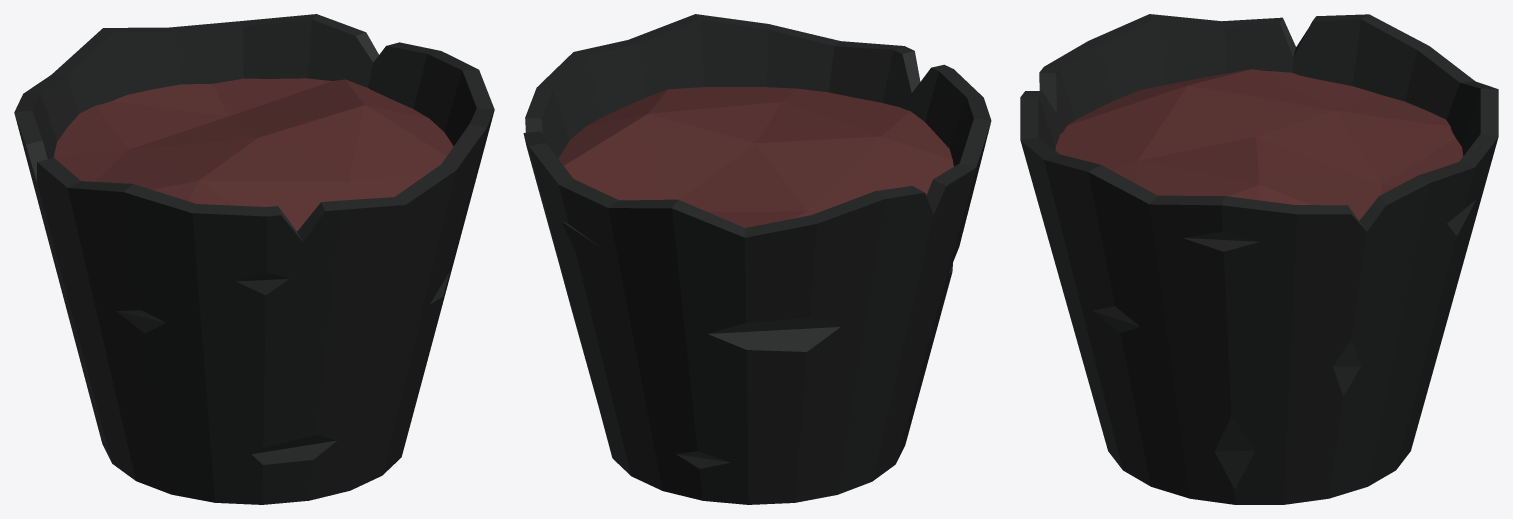
Rendered from Bucket_3_Black.fbx.
3 renders of one model, left to right at view 1: azimuth 30°, elevation 25°; view 2: azimuth 150°, elevation 25°; view 3: azimuth 270°, elevation 25°, orthographic. The views are drawn at different scales.
Visible parts, largest first — view 1: Bucket_3_Black_Part_1, Bucket_3_Black_Part_3, Bucket_3_Black_Part_2; view 2: Bucket_3_Black_Part_1, Bucket_3_Black_Part_3, Bucket_3_Black_Part_2; view 3: Bucket_3_Black_Part_1, Bucket_3_Black_Part_3, Bucket_3_Black_Part_2.
Boxes of the visible parts, left/top/right/bottom form: Bucket_3_Black_Part_1: left=14, top=14, right=494, bottom=504; Bucket_3_Black_Part_3: left=53, top=78, right=453, bottom=231; Bucket_3_Black_Part_2: left=26, top=32, right=450, bottom=464; Bucket_3_Black_Part_1: left=523, top=14, right=991, bottom=504; Bucket_3_Black_Part_3: left=558, top=87, right=953, bottom=227; Bucket_3_Black_Part_2: left=525, top=51, right=952, bottom=468; Bucket_3_Black_Part_1: left=1020, top=14, right=1498, bottom=504; Bucket_3_Black_Part_3: left=1055, top=69, right=1463, bottom=220; Bucket_3_Black_Part_2: left=1039, top=18, right=1476, bottom=489.
Size of the model in its own units: 79.02 by 62.58 by 79.02.
